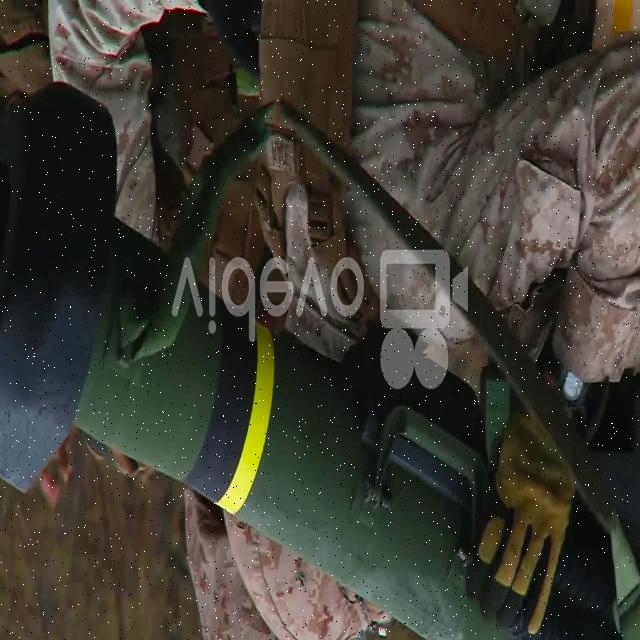bazooka: (2, 57, 640, 640)
